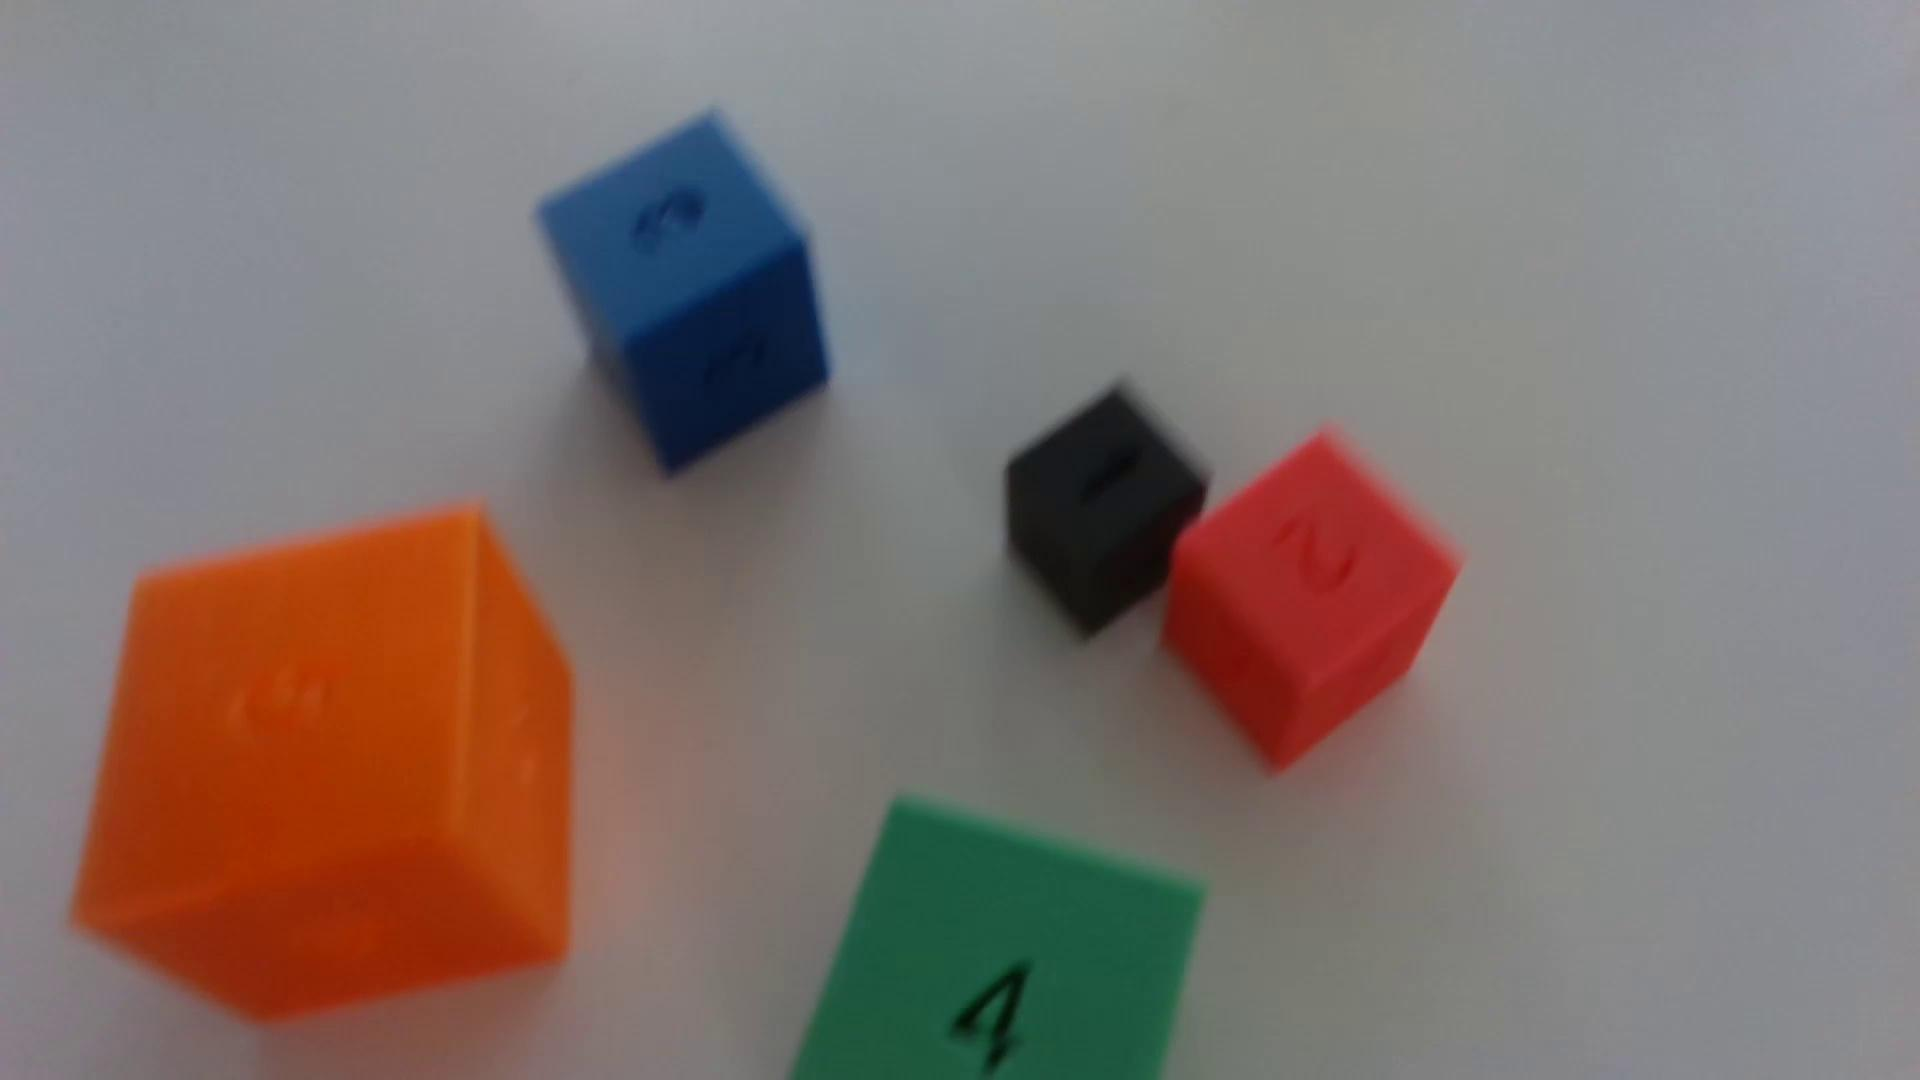black: (1004, 386, 1207, 637)
blue: (537, 117, 828, 473)
green: (793, 800, 1203, 1080)
orange: (73, 509, 574, 1021)
red: (1164, 434, 1460, 770)
